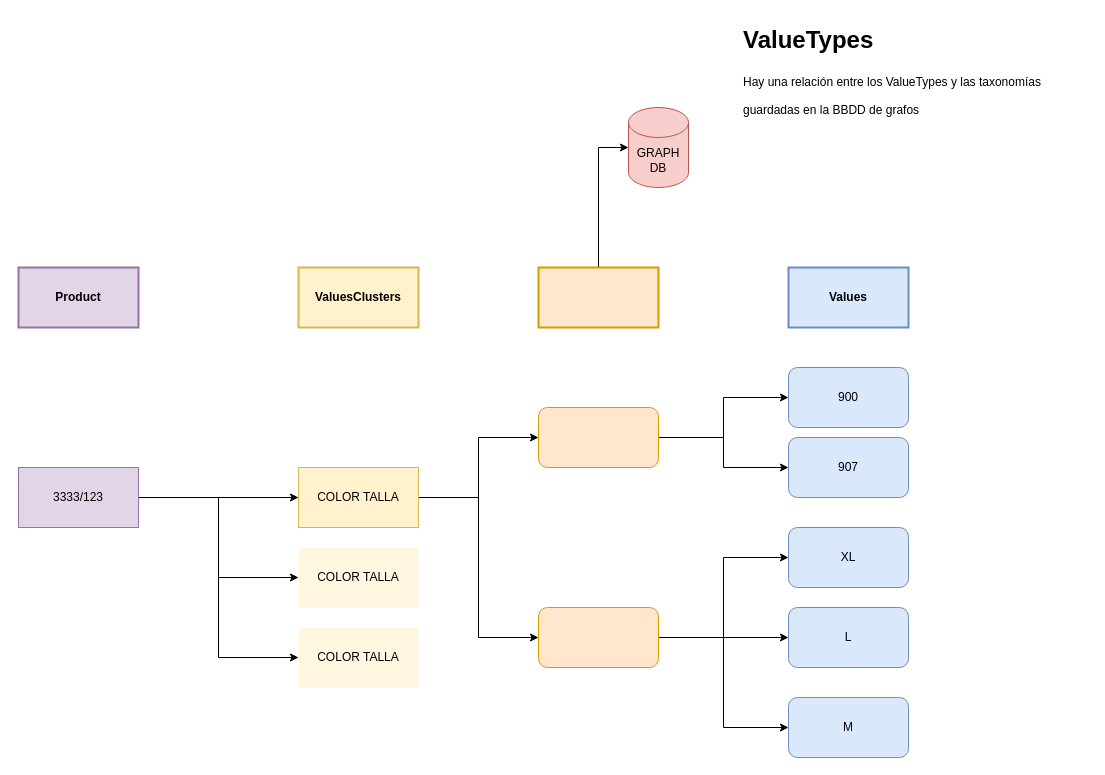
Some shapes in this 1105 by 775 pixel diagram are drawn without their labels. Each missing label, with the centre of its shape:
COLOR: the point at 598,437
TALLA: the point at 598,637
ValueTypes: the point at 598,297
